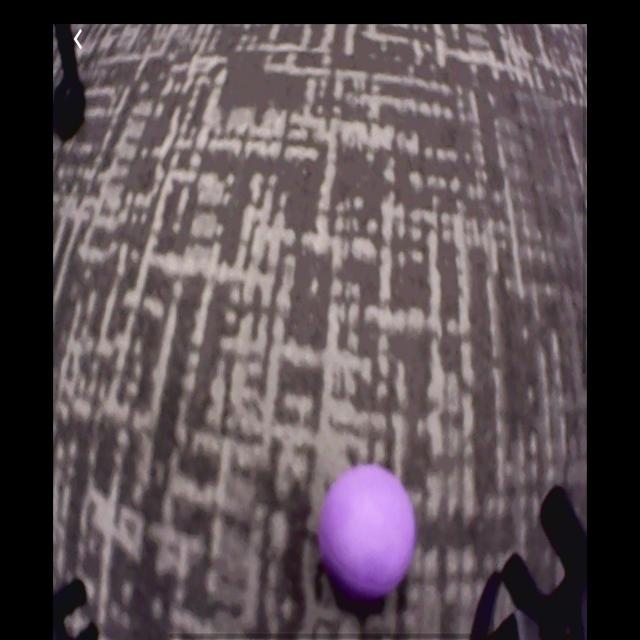ball: (319, 465, 420, 598)
